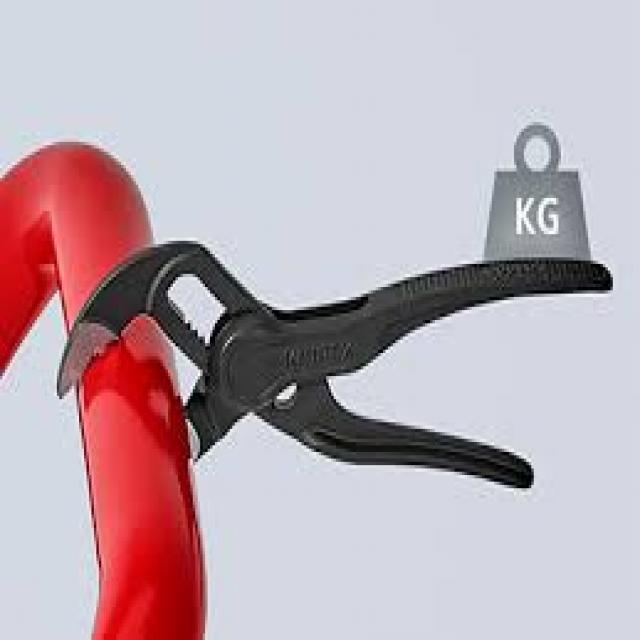pliers: (48, 230, 621, 508)
